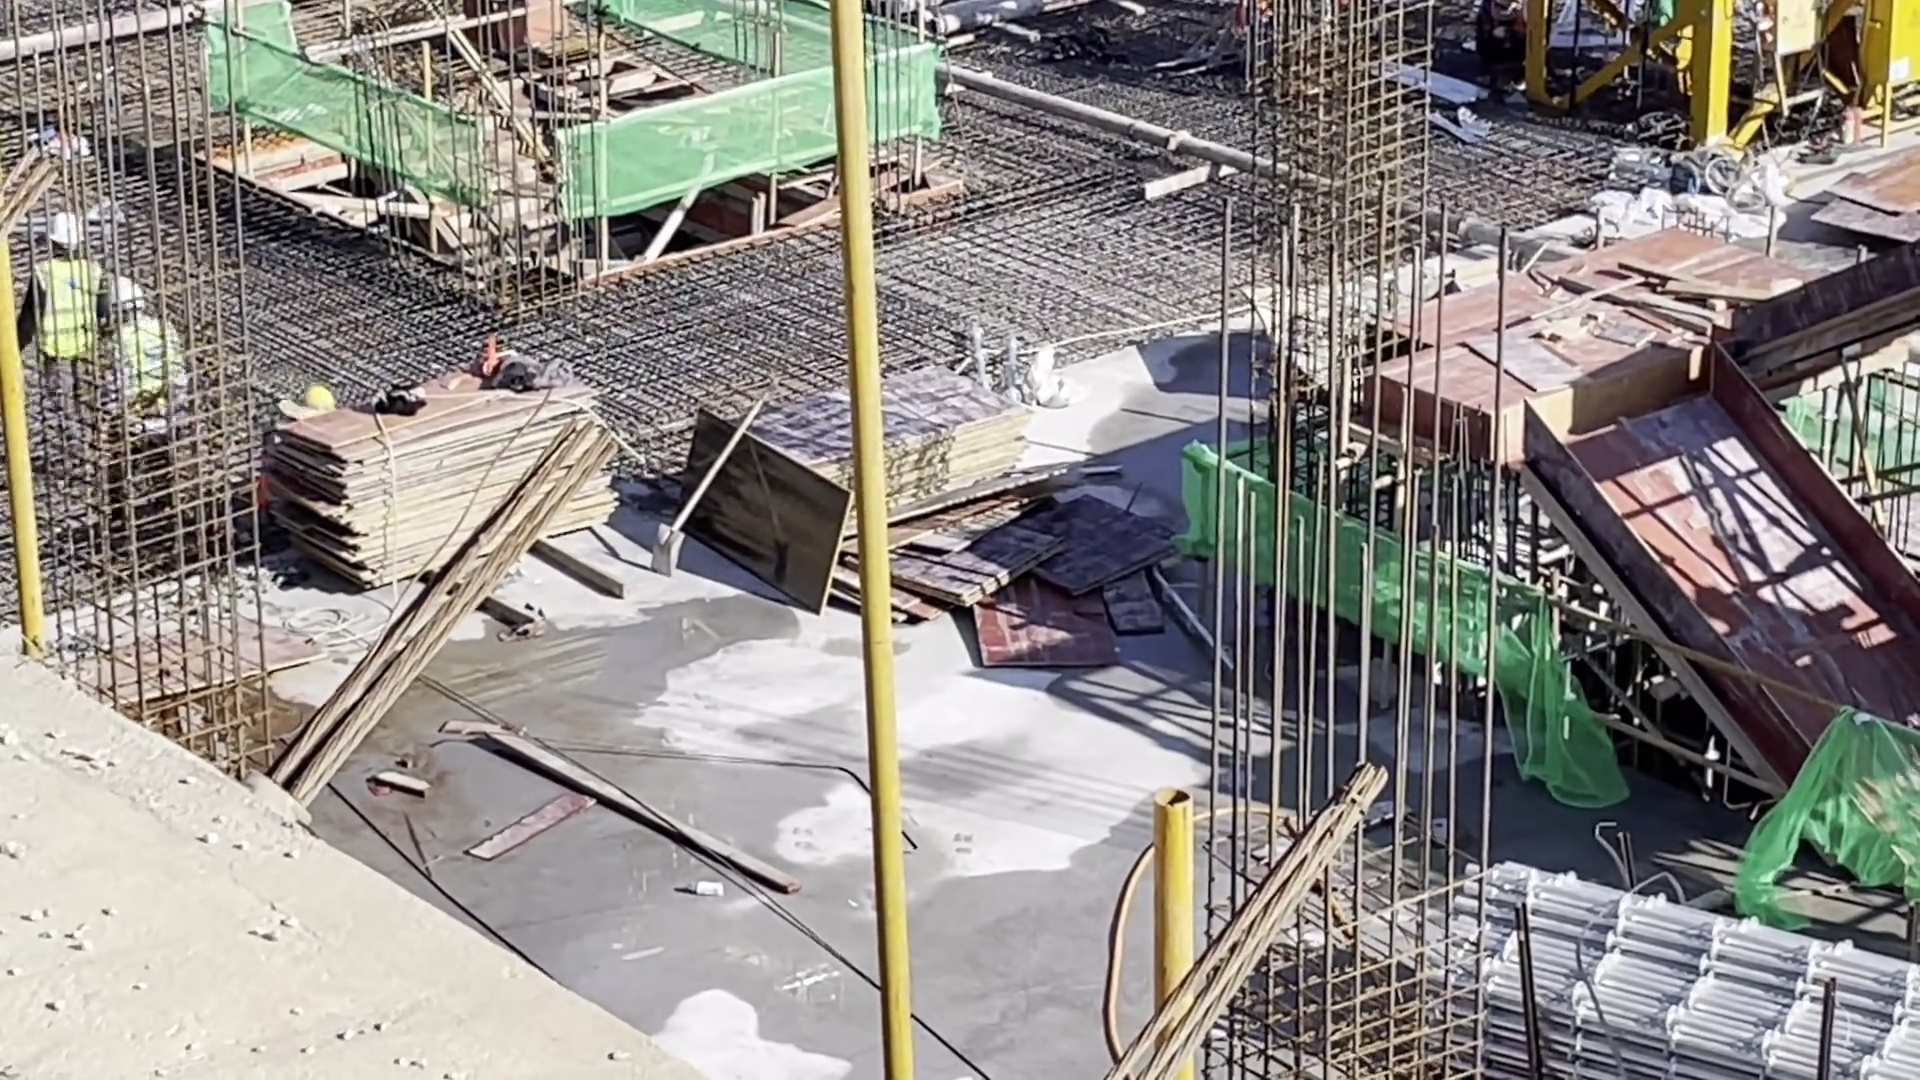board: (301, 389, 603, 586), (703, 384, 1021, 556)
ebox: (1864, 1, 1914, 134)
helmet: (111, 281, 153, 321), (48, 212, 83, 247), (309, 384, 341, 417)
person: (91, 261, 184, 563), (26, 196, 94, 416), (249, 375, 336, 526), (1458, 1, 1526, 66)
scaffold: (1424, 847, 1920, 1075)
vest: (121, 312, 169, 446), (28, 262, 89, 356), (259, 411, 284, 504), (1478, 8, 1532, 50)
